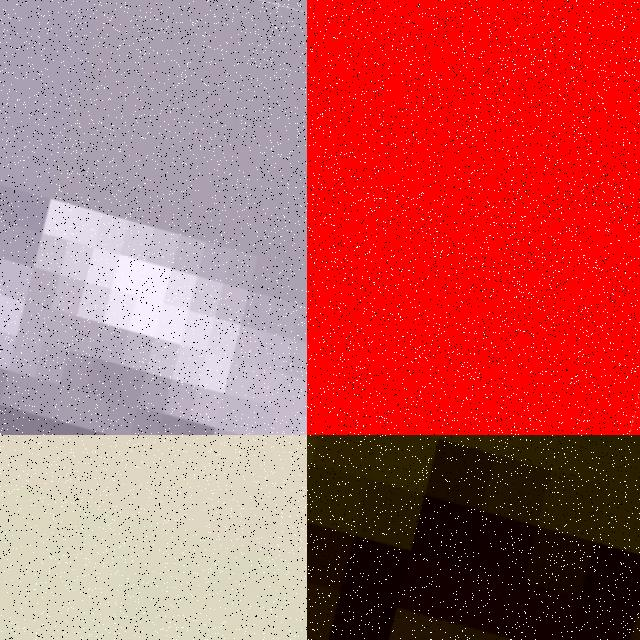drone: (307, 0, 640, 435), (0, 0, 307, 435), (307, 435, 640, 640), (0, 435, 307, 640)
